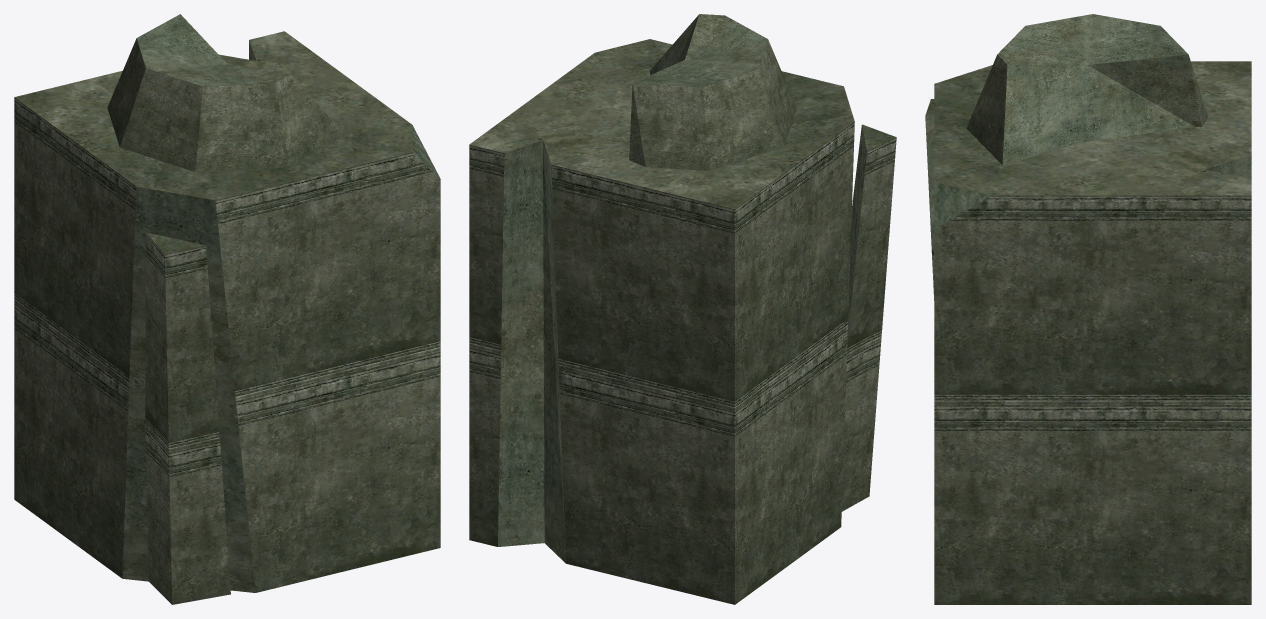
The model's file is thm_dant_jedi_temple_pillar_base_l2.fbx.
3 views of the same model, side by side, from view 1: azimuth 30°, elevation 25°; view 2: azimuth 150°, elevation 25°; view 3: azimuth 270°, elevation 25° (orthographic). The views are drawn at different scales.
Visible parts, largest first — view 1: mesh_node; view 2: mesh_node; view 3: mesh_node.
Part boxes in pixels (x1=…): mesh_node: x1=14, y1=14, x2=440, y2=604; mesh_node: x1=469, y1=14, x2=896, y2=604; mesh_node: x1=925, y1=14, x2=1251, y2=604.
Size of the model in its own units: 2.05 by 3.36 by 2.06.
